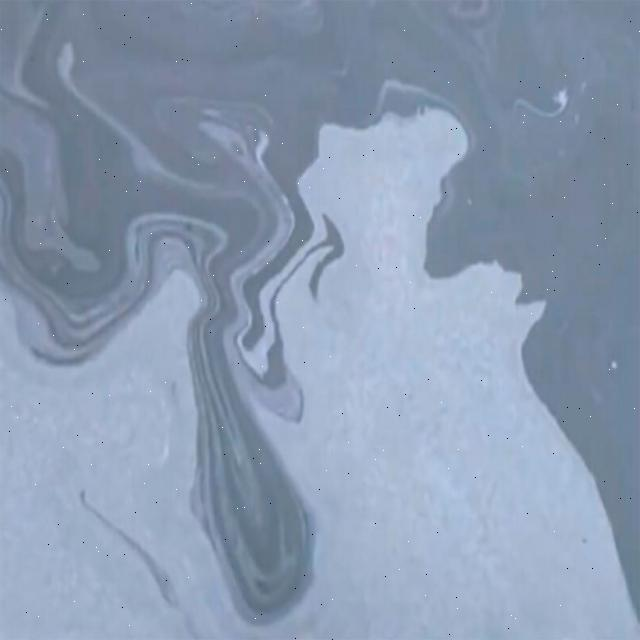sheen: (0, 110, 640, 639)
